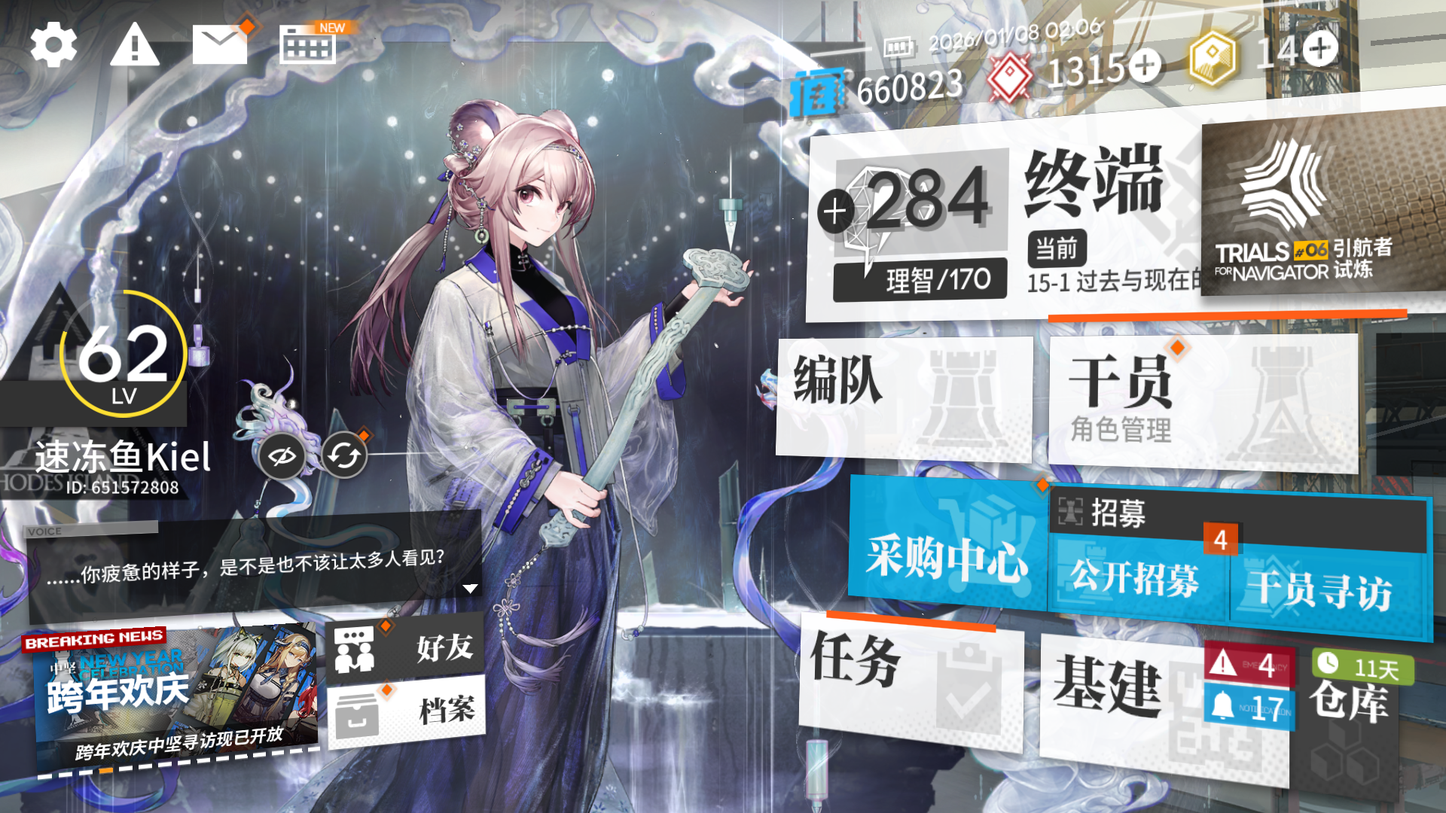home_button: (1014, 141, 1179, 230)
infrastructure_button: (1036, 633, 1285, 778)
